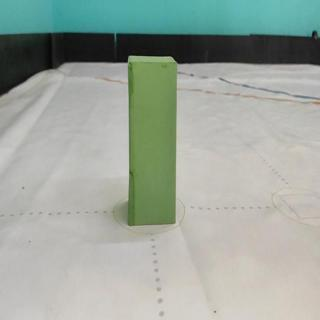greenbox: (127, 53, 180, 227)
